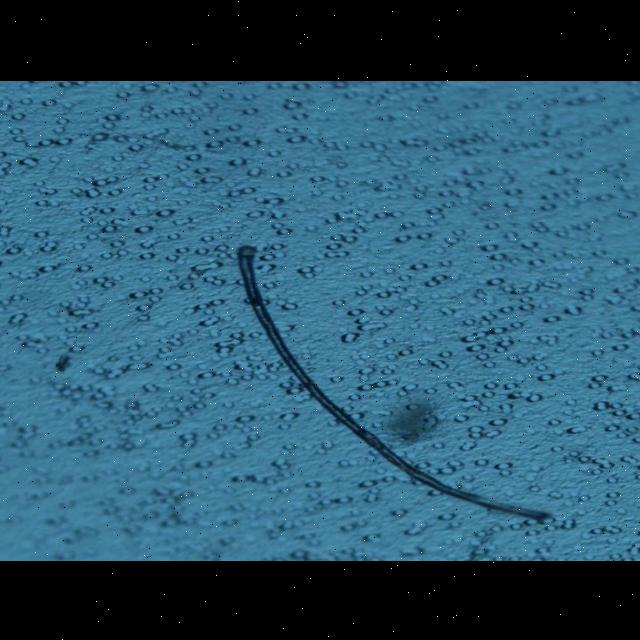Fibre: (234, 244, 558, 522)
